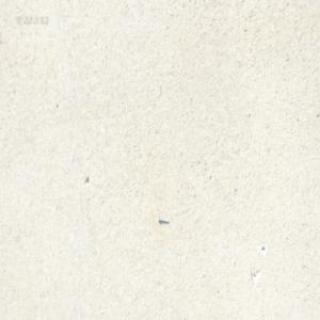Nailtrack_idkeyframe: (157, 216, 169, 224)
